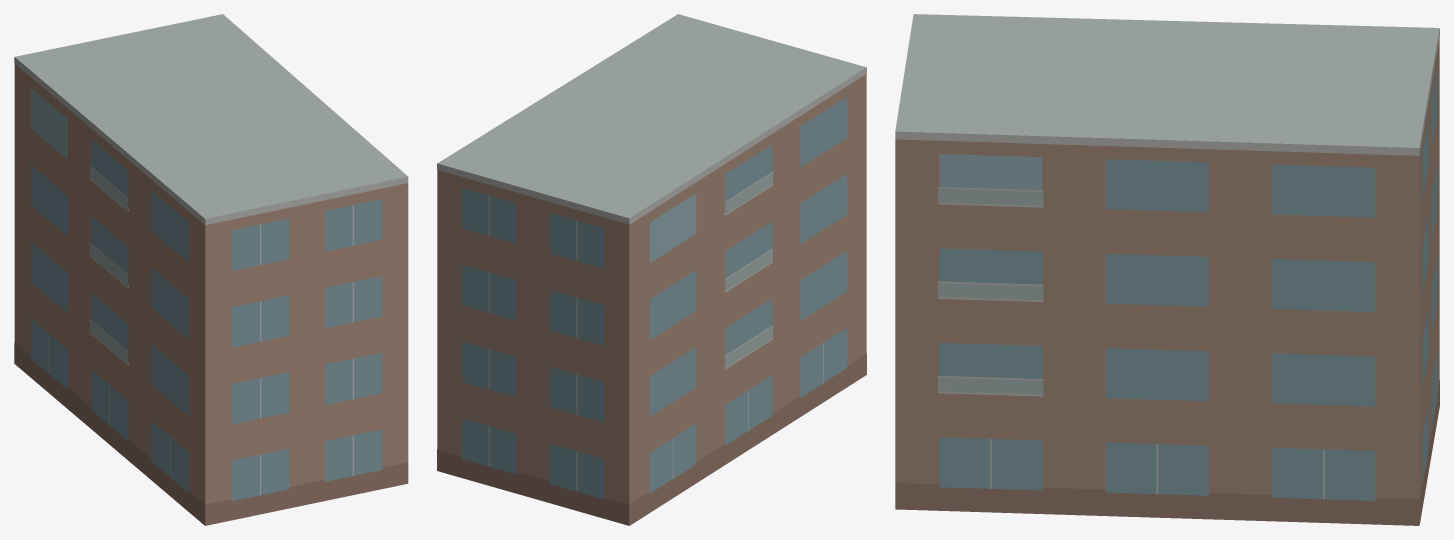
File: survey-upis-32748044.glb
3 renders of one model, left to right at view 1: azimuth 30°, elevation 25°; view 2: azimuth 150°, elevation 25°; view 3: azimuth 270°, elevation 25°, orthographic. The views are drawn at different scales.
Visible parts, largest first — view 1: survey-upis-32748044.tmp; view 2: survey-upis-32748044.tmp; view 3: survey-upis-32748044.tmp.
Part boxes in pixels (x1,y1,x2,y2): survey-upis-32748044.tmp: (14, 14, 408, 525); survey-upis-32748044.tmp: (437, 14, 866, 525); survey-upis-32748044.tmp: (895, 14, 1439, 525).
Bounding box in the file's own units: 8.99 × 11.8 × 15.43.
